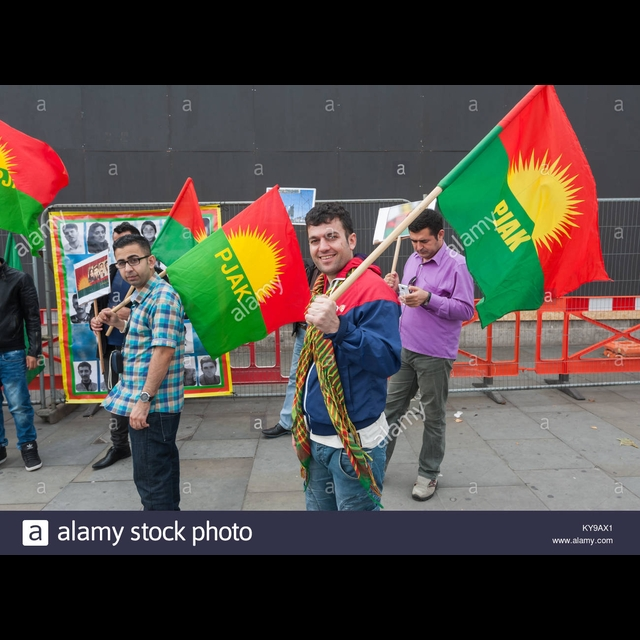PJAK: (491, 143, 589, 273), (214, 225, 285, 321)
